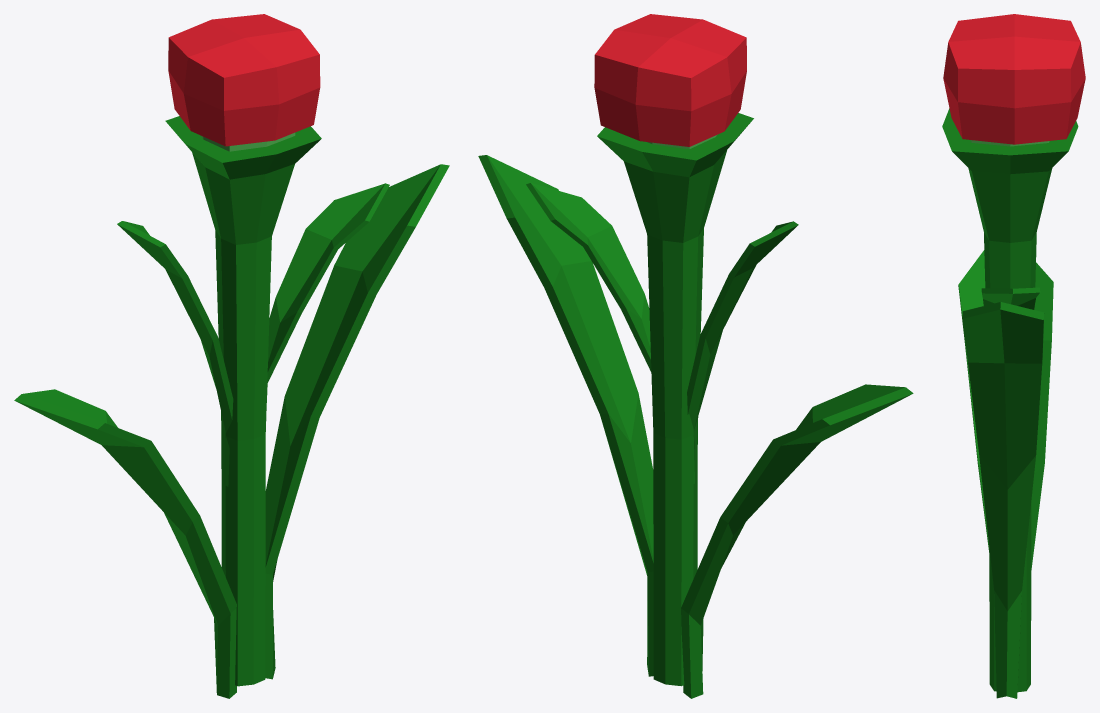
Rendered from Vulbloem.fbx.
3 views of the same model, side by side, from view 1: azimuth 30°, elevation 25°; view 2: azimuth 150°, elevation 25°; view 3: azimuth 270°, elevation 25° (orthographic).
Visible parts, largest first — view 1: Vulboem; view 2: Vulboem; view 3: Vulboem.
Part boxes in pixels (<box>): Vulboem: <box>14,14,449,698</box>; Vulboem: <box>478,14,913,698</box>; Vulboem: <box>942,14,1085,698</box>.
Bounding box in the file's own units: 201 × 286 × 56.3.
